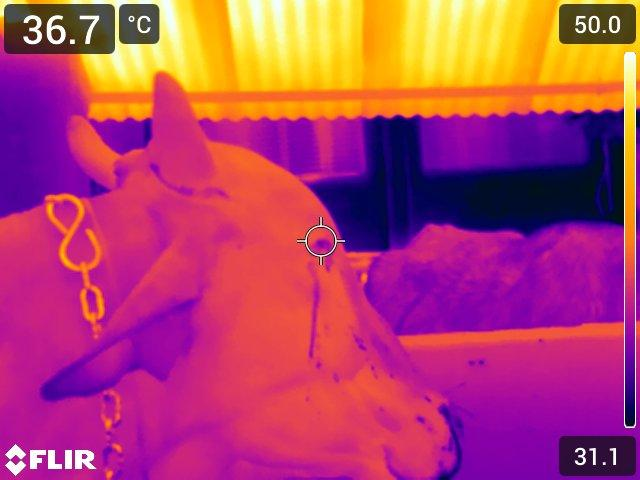ear: (45, 262, 236, 409)
eyes: (303, 214, 343, 283)
